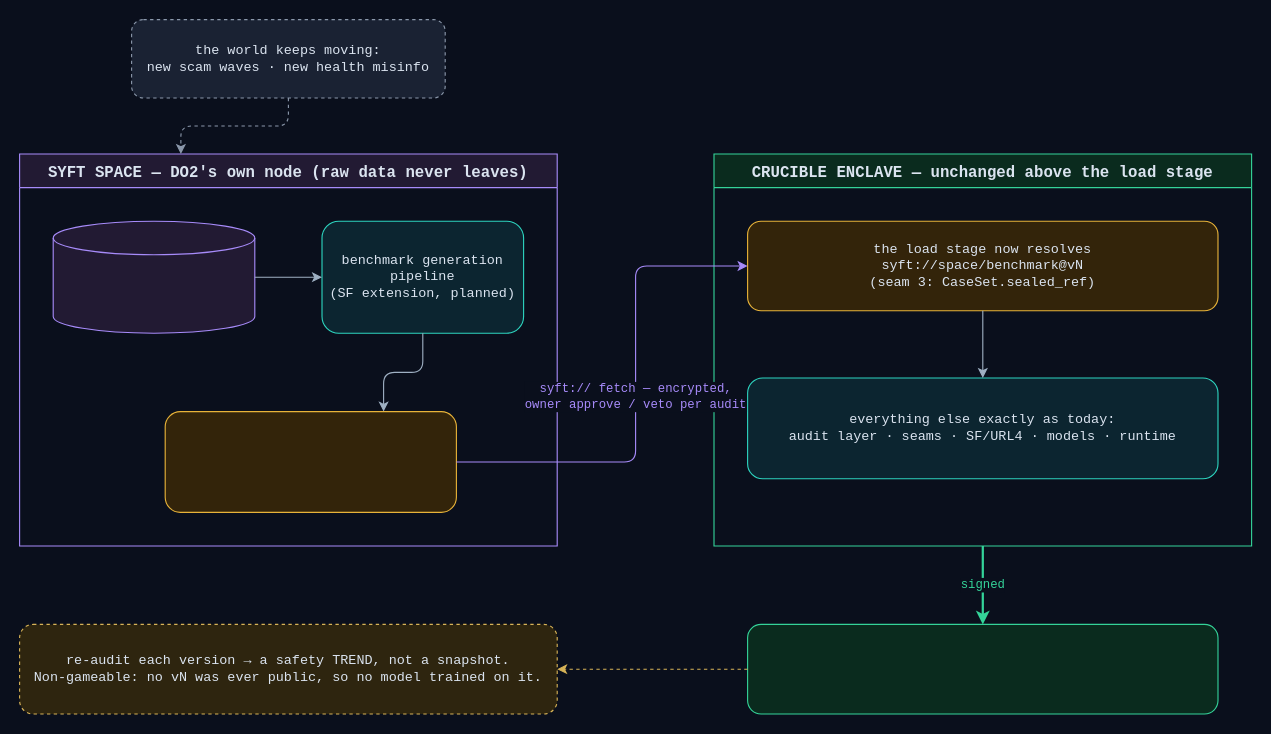
Image size: 1271x734. Some labels were removed from this diagram. The shapes that lost their labels are listed below. From the top down, each one's box as (x1, y1, x2, y2) in pixels, then its label:
(52, 220, 255, 333): private documents + vector DB
(164, 410, 456, 512): versioned benchmark asset v1 → v2 → … → vN (each version never published)
(746, 623, 1218, 714): Scorecard + provenance space id · pipeline hash · benchmark version vN
